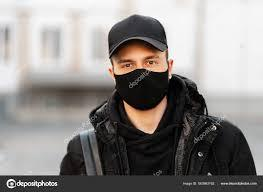cap: (105, 10, 169, 56)
mask: (112, 68, 173, 114)
